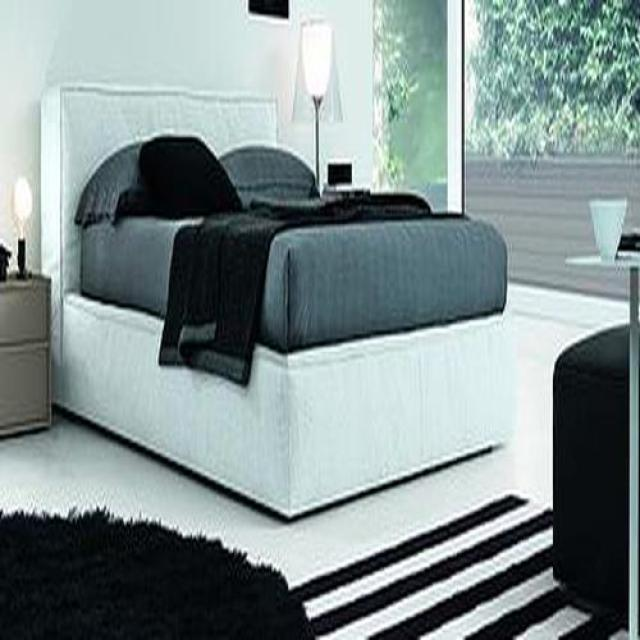bed: (41, 79, 518, 515)
